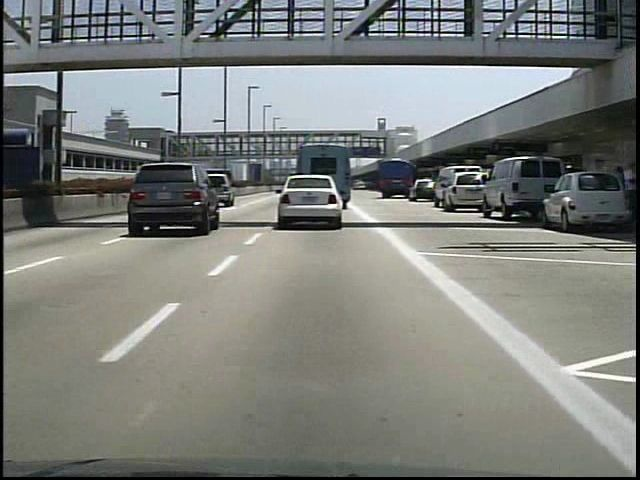person: (615, 153, 640, 230)
